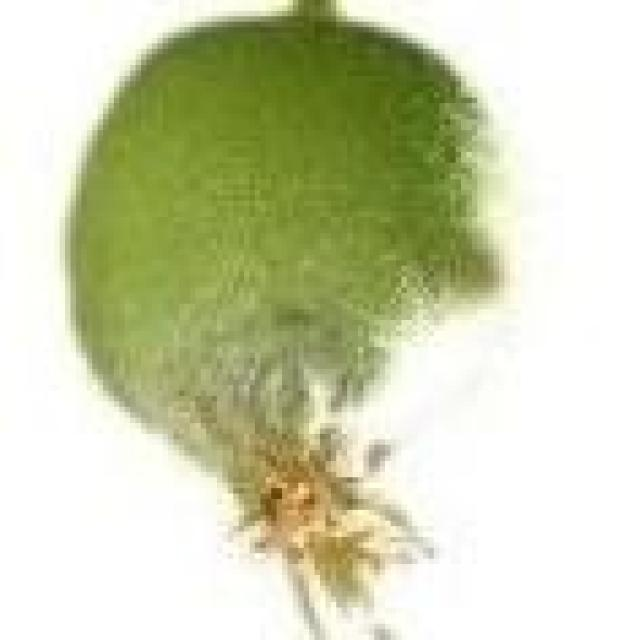Rotten Apple: (79, 11, 518, 640)
